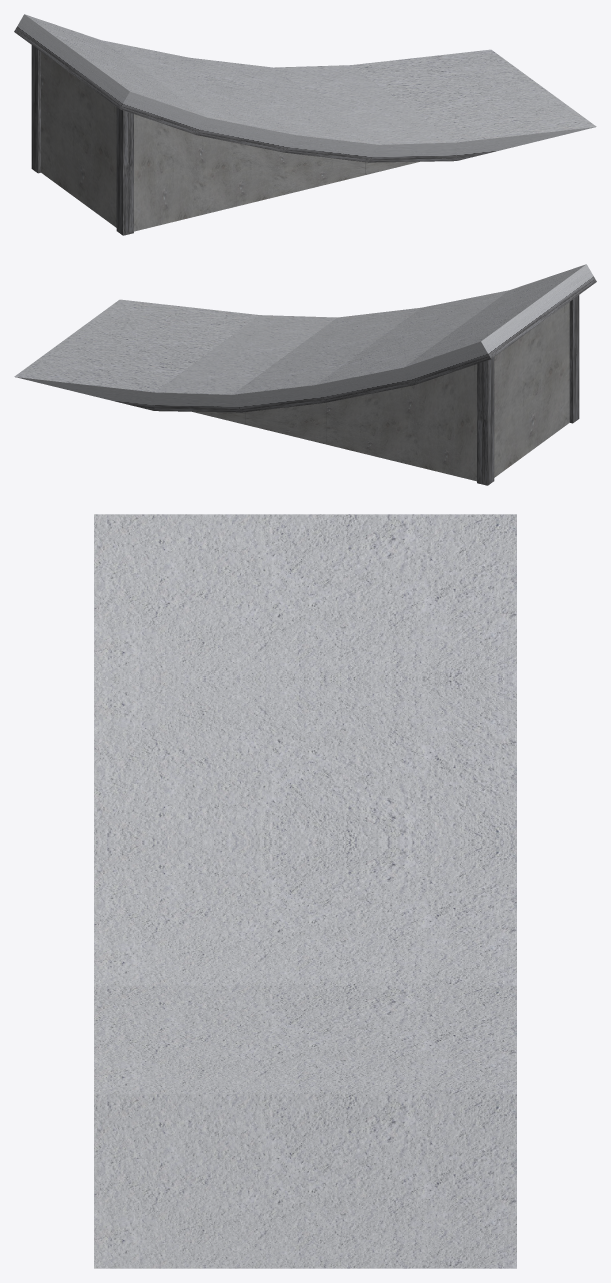
The model's file is rampSNOW.fbx.
The picture shows the model from 3 angles, top to bottom: view 1: azimuth 30°, elevation 25°; view 2: azimuth 150°, elevation 25°; view 3: azimuth 270°, elevation 25°; orthographic projection. The views are drawn at different scales.
Parts seen in each view (by area): view 1: rampSnow; view 2: rampSnow; view 3: rampSnow.
Boxes of the visible parts, left/top/right/bottom form: rampSnow: left=14, top=14, right=596, bottom=235; rampSnow: left=14, top=264, right=596, bottom=485; rampSnow: left=94, top=514, right=516, bottom=1268.
Bounding box in the file's own units: 521 × 156 × 200.
1 material, 1 textured.
